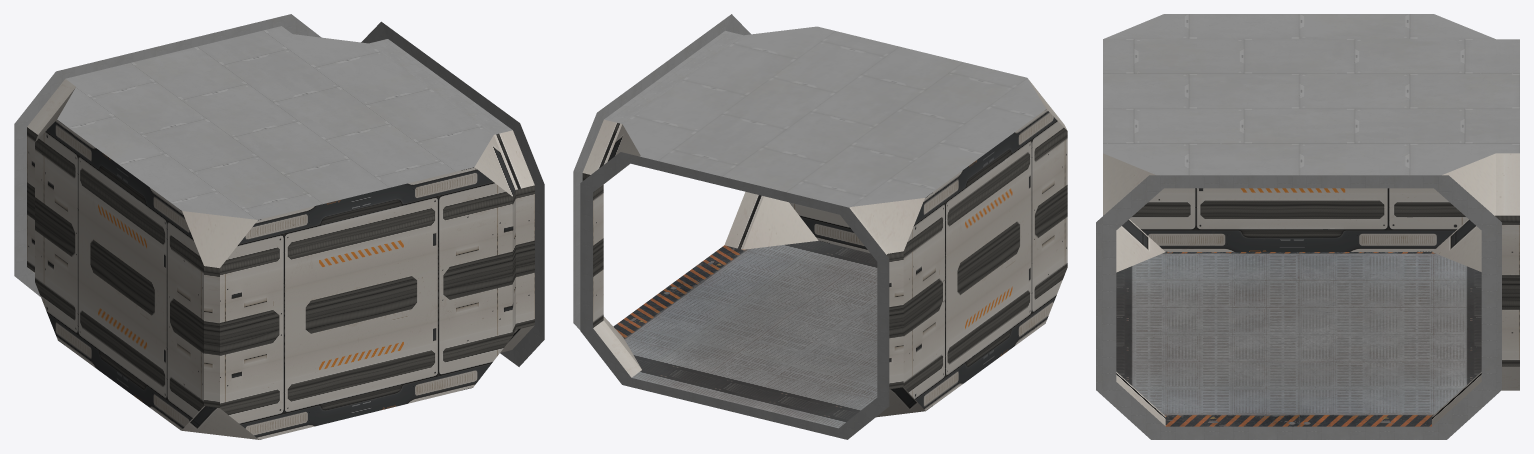
File: lab_left_corner.FBX
3 renders of one model, left to right at view 1: azimuth 30°, elevation 25°; view 2: azimuth 150°, elevation 25°; view 3: azimuth 270°, elevation 25°, orthographic. The views are drawn at different scales.
Visible parts, largest first — view 1: LeftCorner; view 2: LeftCorner; view 3: LeftCorner.
Boxes of the visible parts, x1,y1,x2,y2 form: LeftCorner: (14,14,544,439); LeftCorner: (573,14,1067,439); LeftCorner: (1096,14,1519,439).
Size of the model in its own units: 2.78 by 1.94 by 2.82.
3 materials, 3 textured.
